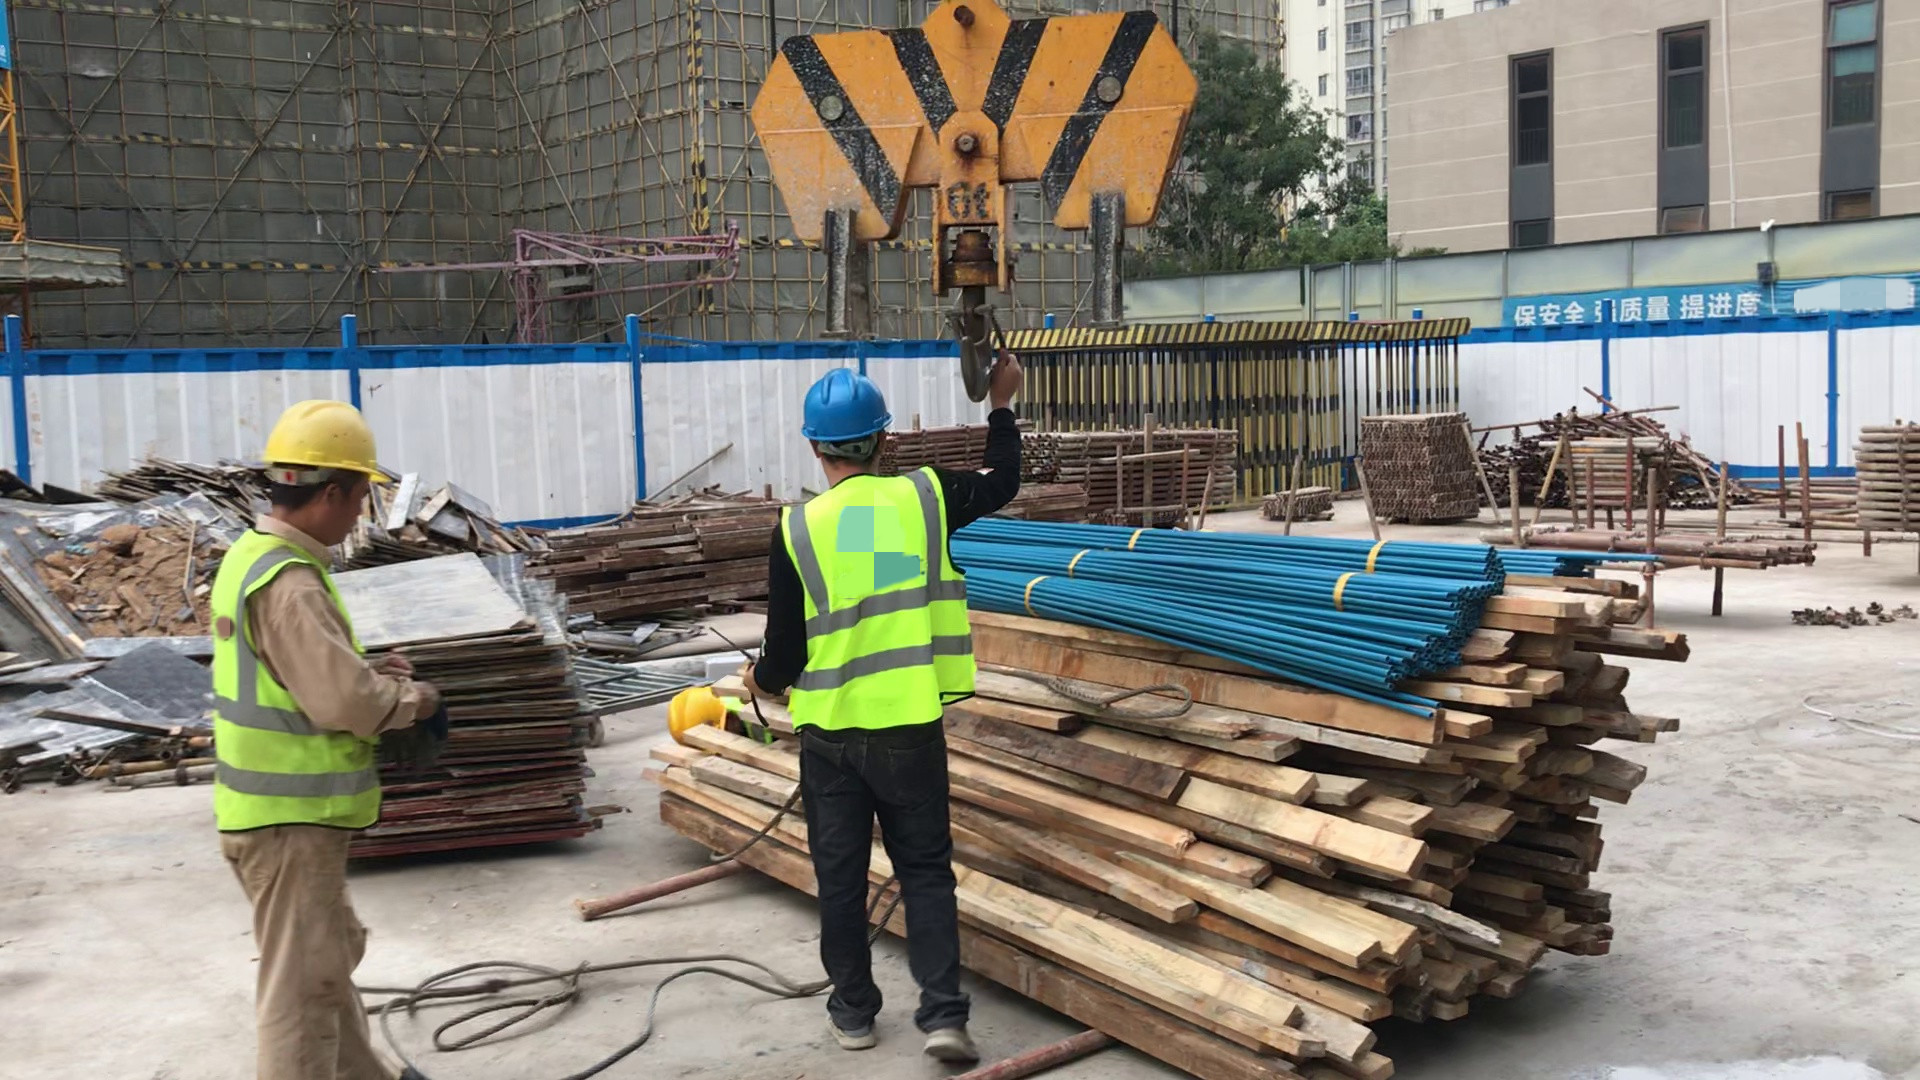board: (3, 418, 572, 842), (223, 546, 649, 887)
helmet: (233, 366, 416, 515), (793, 362, 933, 458)
hook: (715, 4, 1287, 426)
person: (754, 354, 1059, 1064), (196, 377, 489, 1080), (655, 666, 771, 781)
scaffold: (1513, 377, 1730, 508), (1837, 420, 1920, 534)
slogan: (1502, 280, 1920, 362), (1, 3, 19, 78)
vest: (199, 524, 412, 847), (767, 458, 986, 745)
wood: (627, 497, 1708, 1080), (542, 499, 831, 628)
